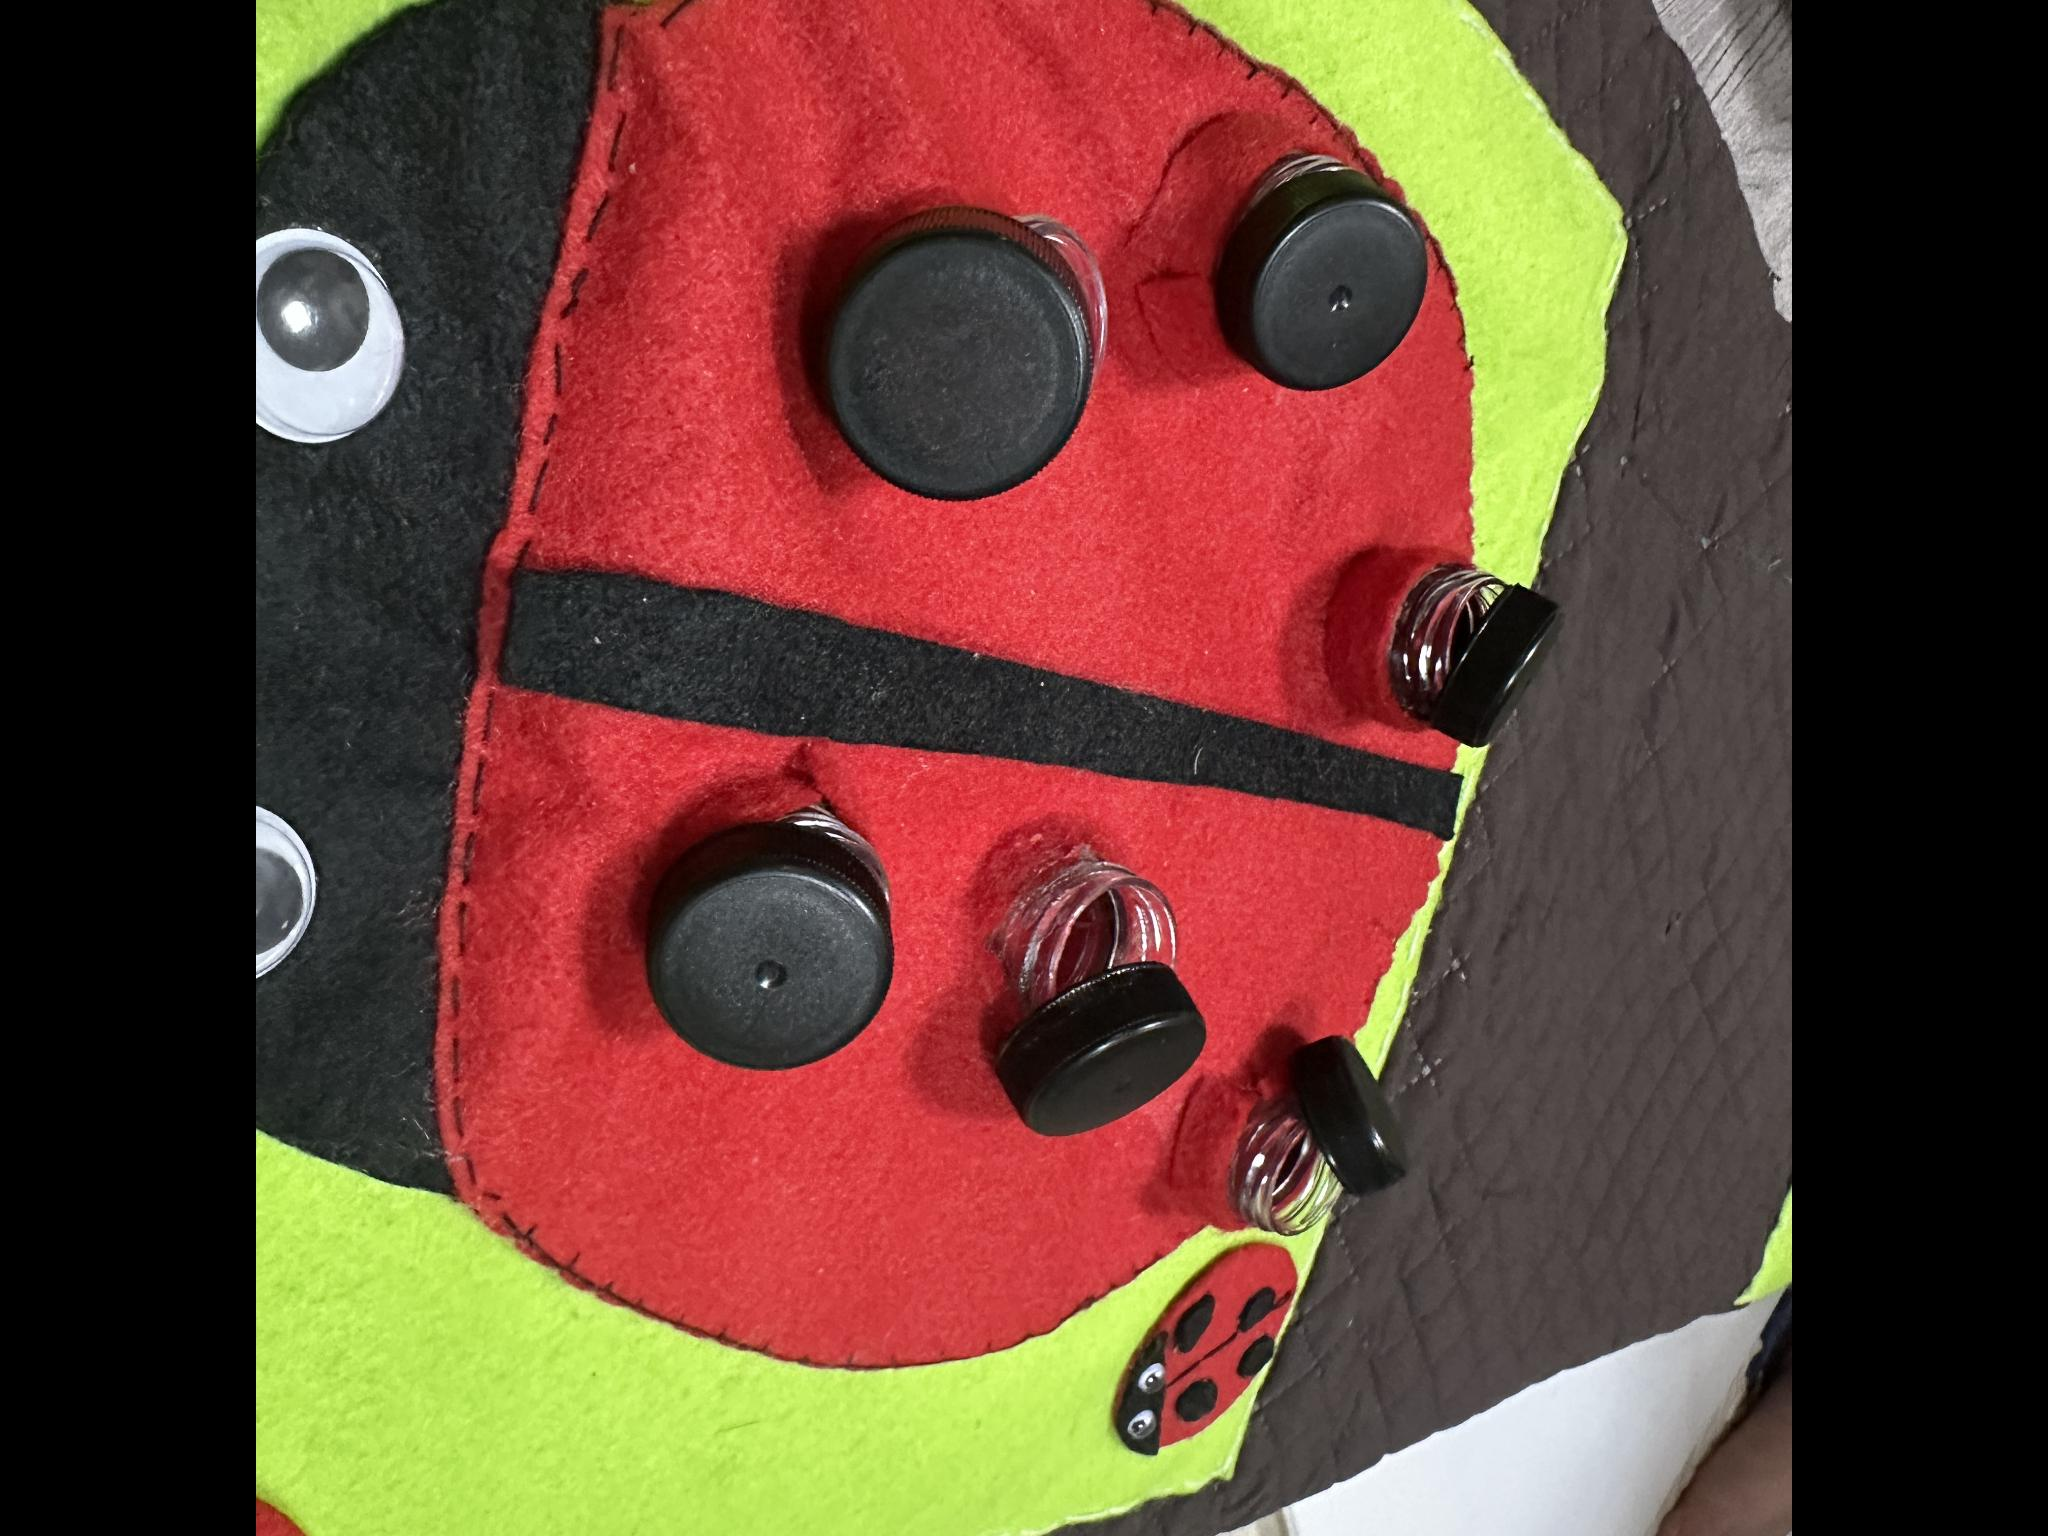cap_ng: (626, 768, 927, 1110), (798, 202, 1140, 500), (969, 821, 1219, 1163), (1159, 123, 1448, 389), (1174, 1031, 1434, 1262), (1313, 537, 1567, 763)
